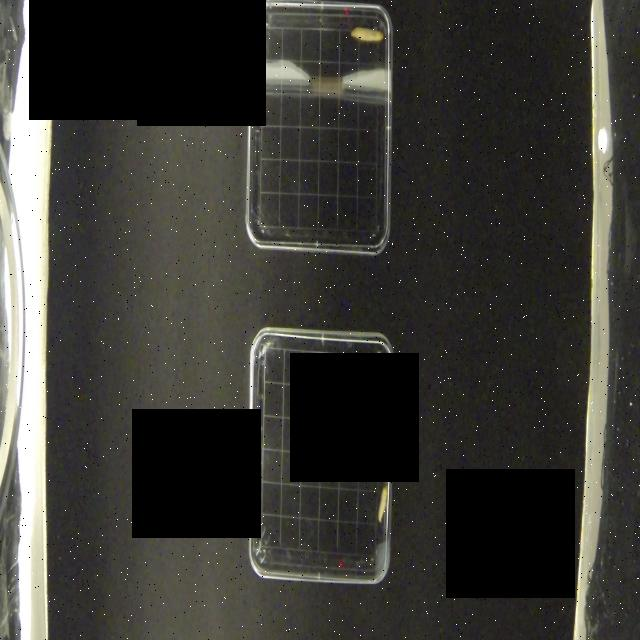larva: (350, 25, 385, 45), (375, 480, 389, 524)
